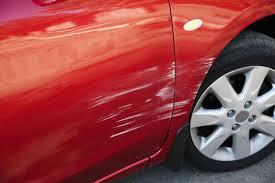scratch: (81, 48, 219, 142)
